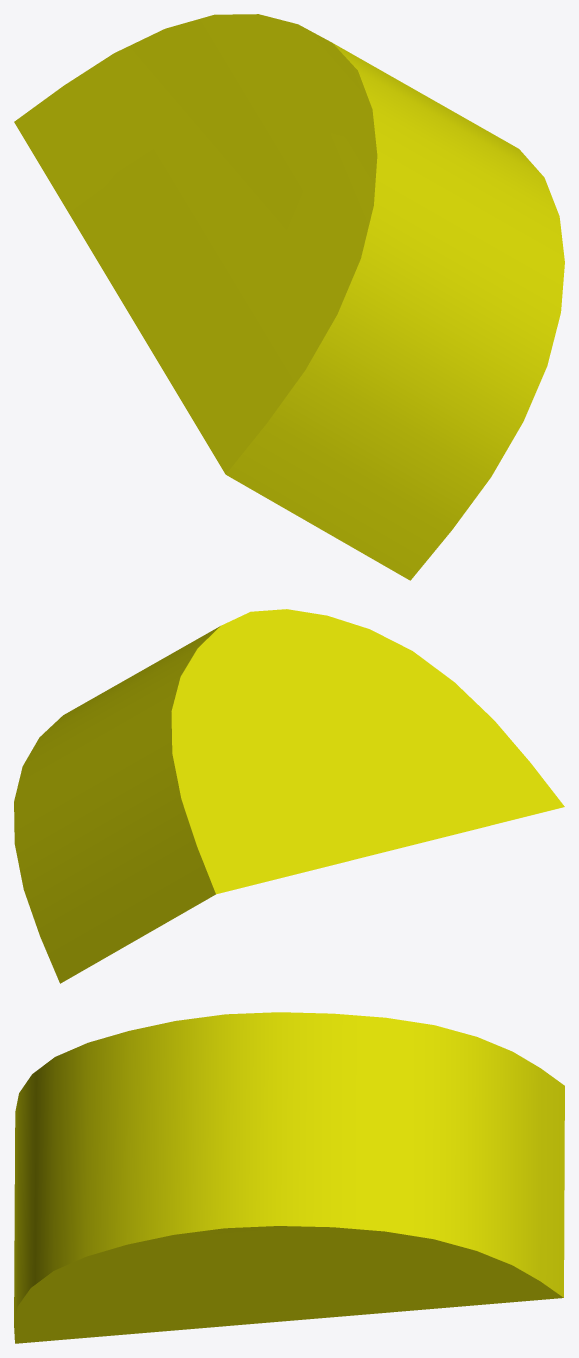
File: Cap1_61.glb
3 renders of one model, top to bottom at view 1: azimuth 30°, elevation 25°; view 2: azimuth 150°, elevation 25°; view 3: azimuth 270°, elevation 25°, orthographic. The views are drawn at different scales.
Size of the model in its own units: 7.82 by 6.94 by 9.57.
